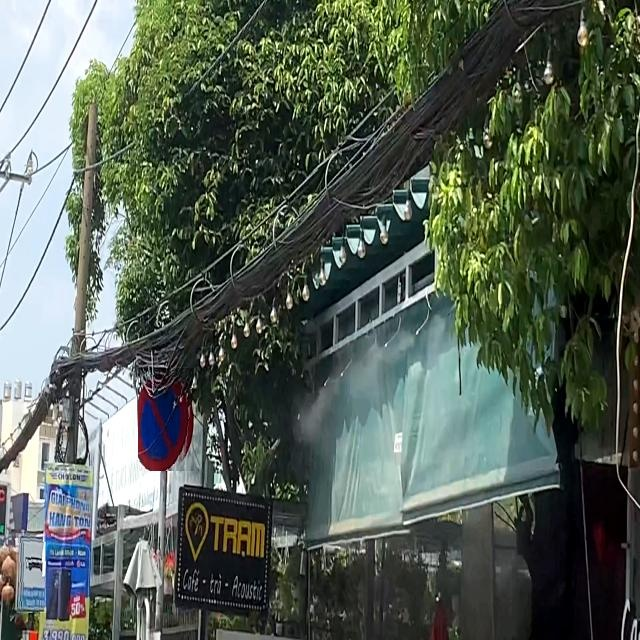bien_cam: (138, 368, 194, 471), (16, 533, 46, 613)
